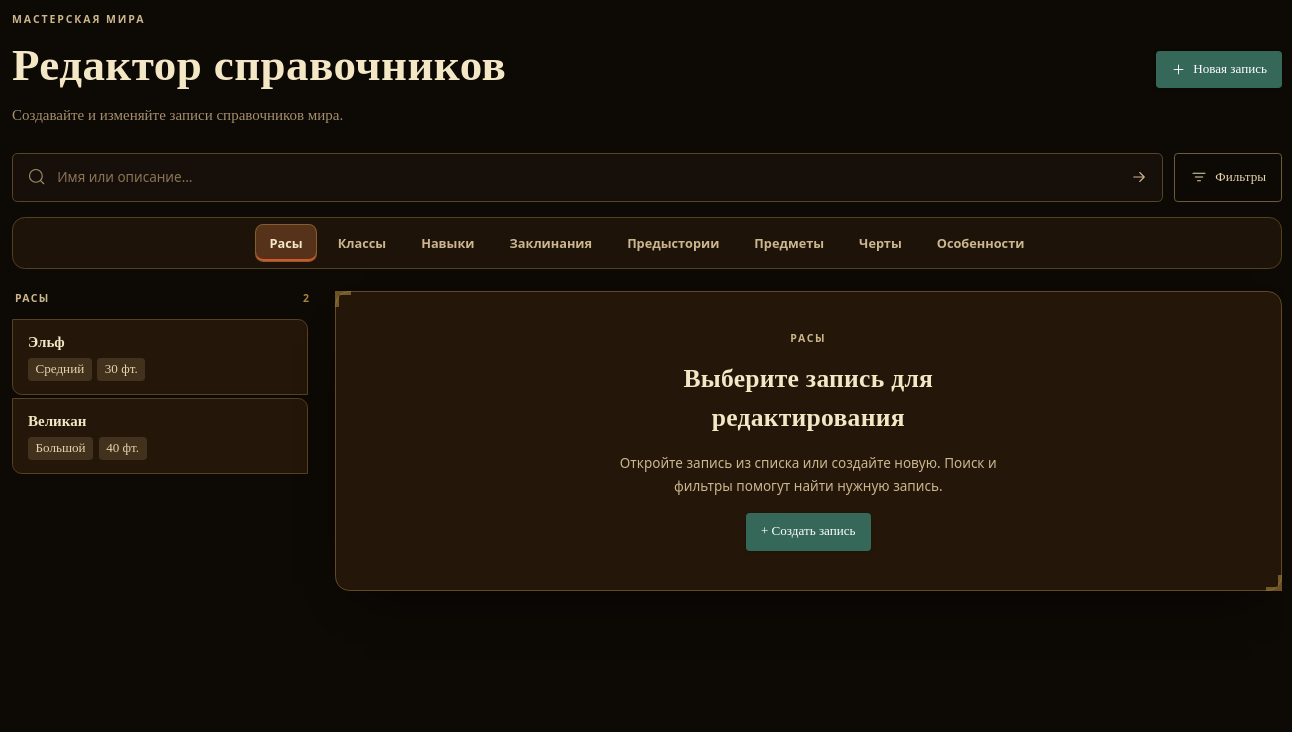
Test: GmEditorPage › queries the server through the search form
Expected: the button "Эльф Средний 30 фт." is shown, [12,319,308,395]
Type "эльф" into the search field named "Поиск по справочнику" at (581, 177), box [57,154,1105,201]
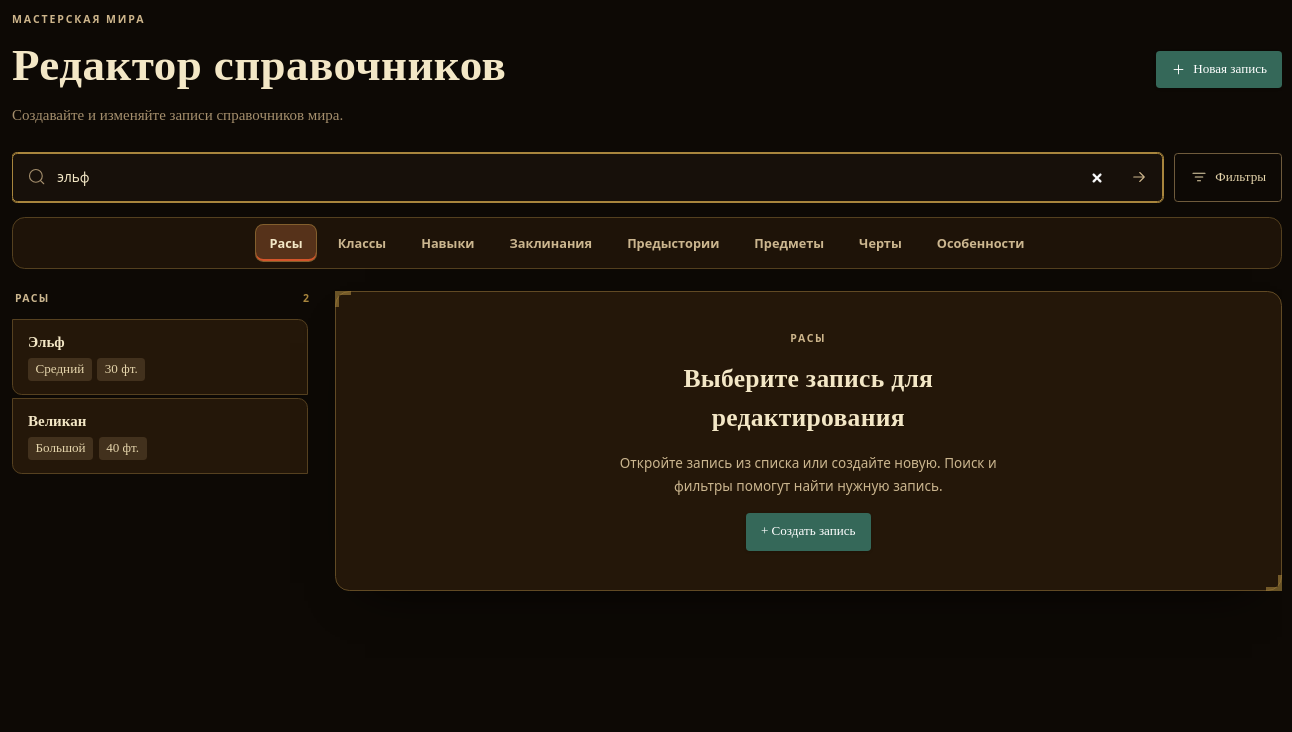
Click the button named "Поиск" at (1139, 177), box [1117,155,1162,200]
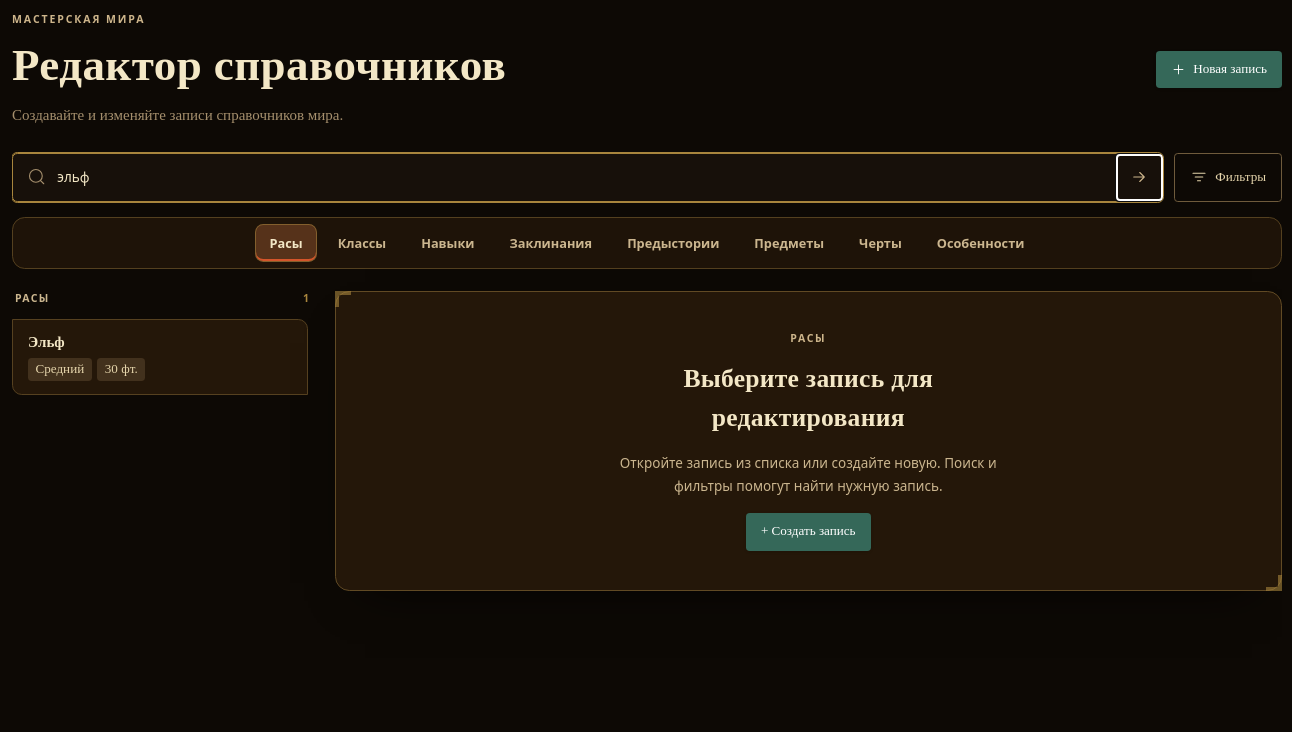
Expected: the button "Эльф Средний 30 фт." is shown, [12,319,308,395]
Now the button "Великан" is gone
